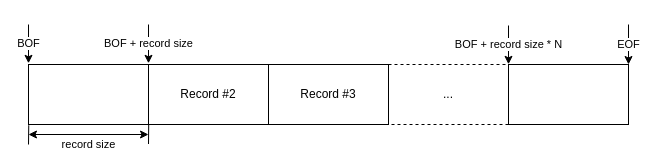
Image size: 657x168. Some labels were removed from this diagram. The box of each missing label's shape, as (x1, y1, x2, y2) in pixels:
Record #1: (28, 64, 148, 124)
Record #N: (508, 64, 628, 124)
